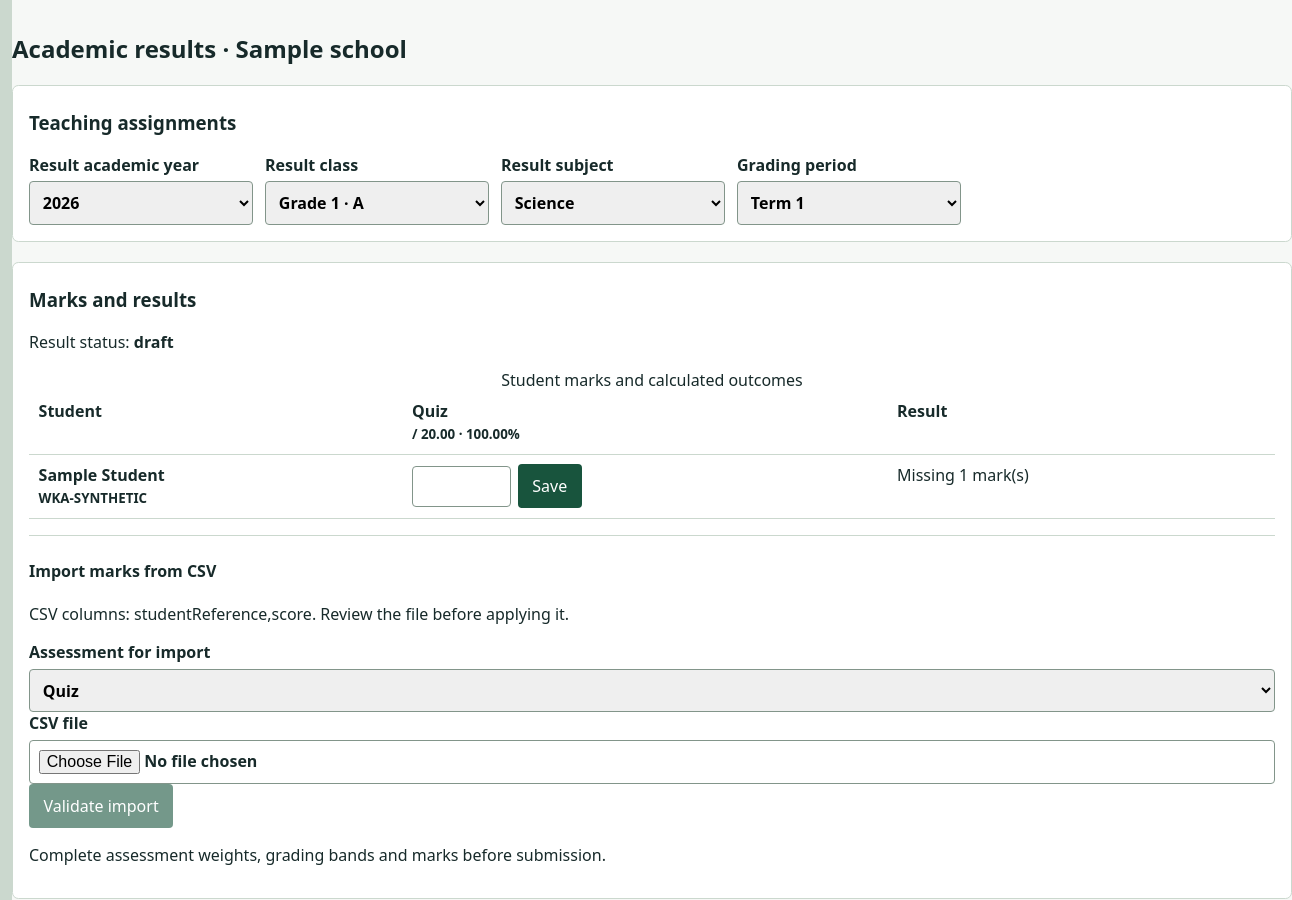
it: academic workspace › validates draft scores and saves through the real academic endpoint client
Type "21" into the field named "Quiz score for WKA-SYNTHETIC".
click(462, 486); type("21")  # box [412,466,512,507]
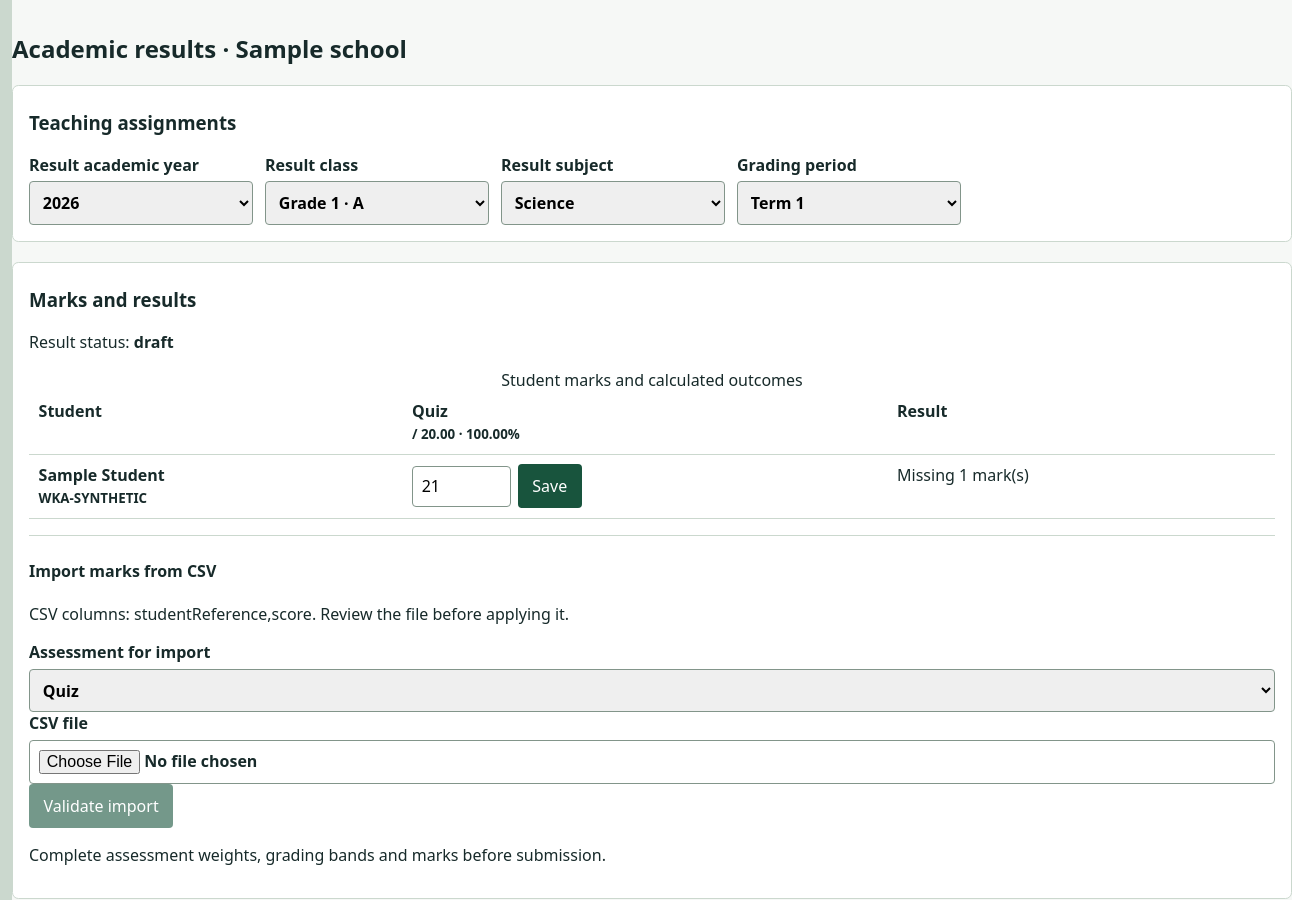
Click the button "Save".
click(550, 486)  # box [518,464,582,508]
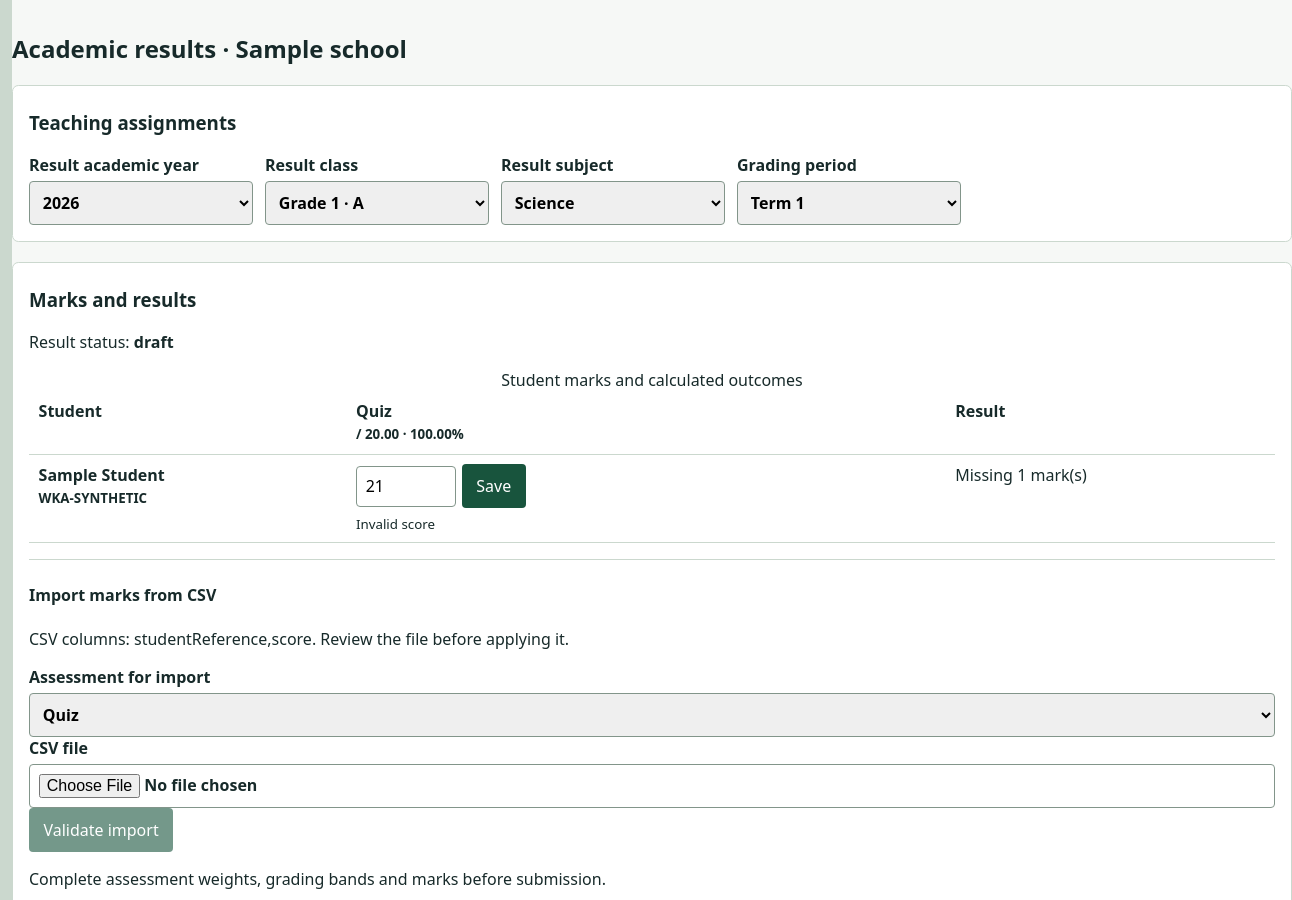
Expected: the text "Invalid score" is shown, [356,515,435,533]
Replace the text in the field named "Quiz score for WKA-SYNTHETIC" with "12" at (406,486), box [356,466,456,507]
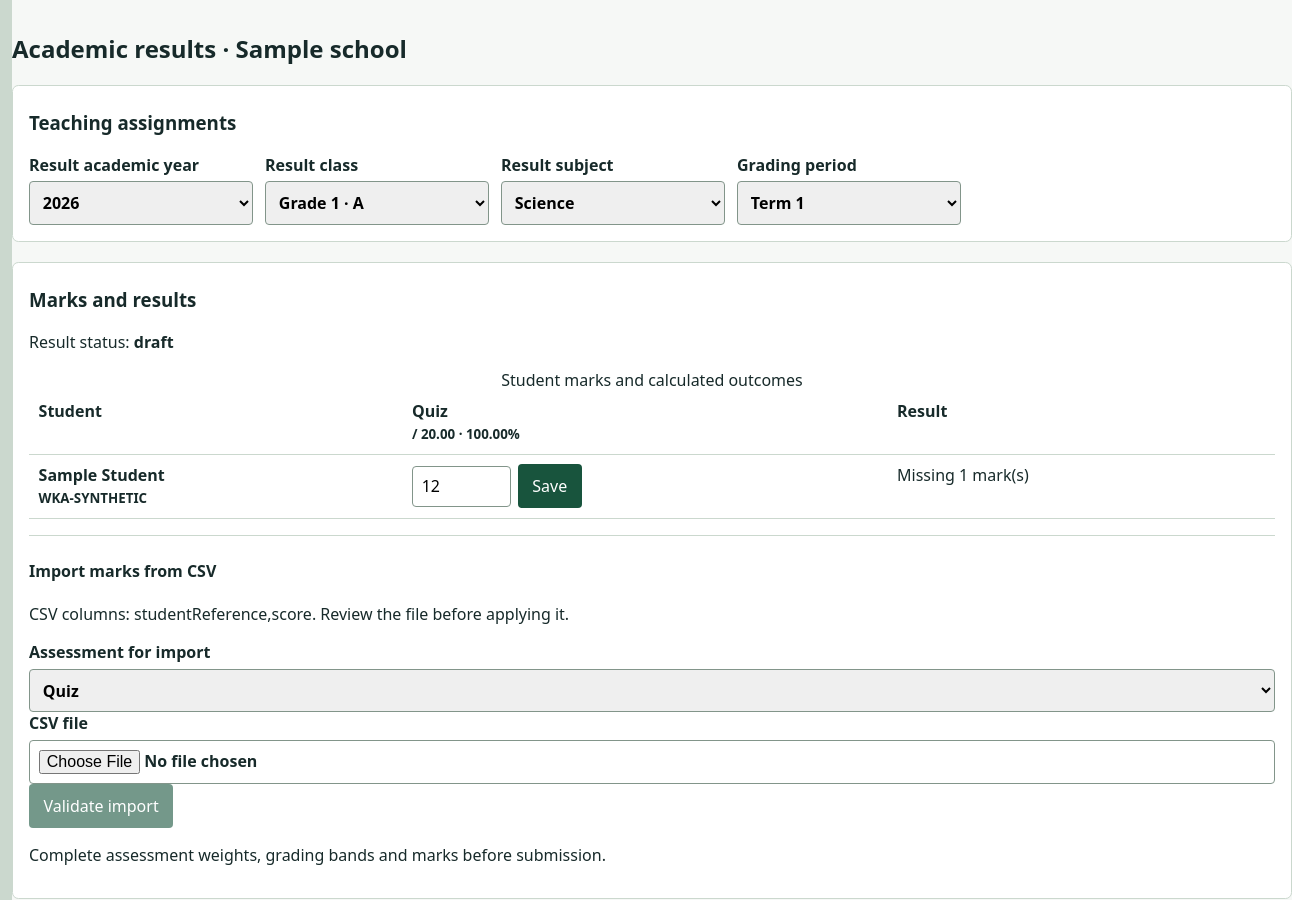
Click the button "Save".
click(550, 486)  # box [518,464,582,508]
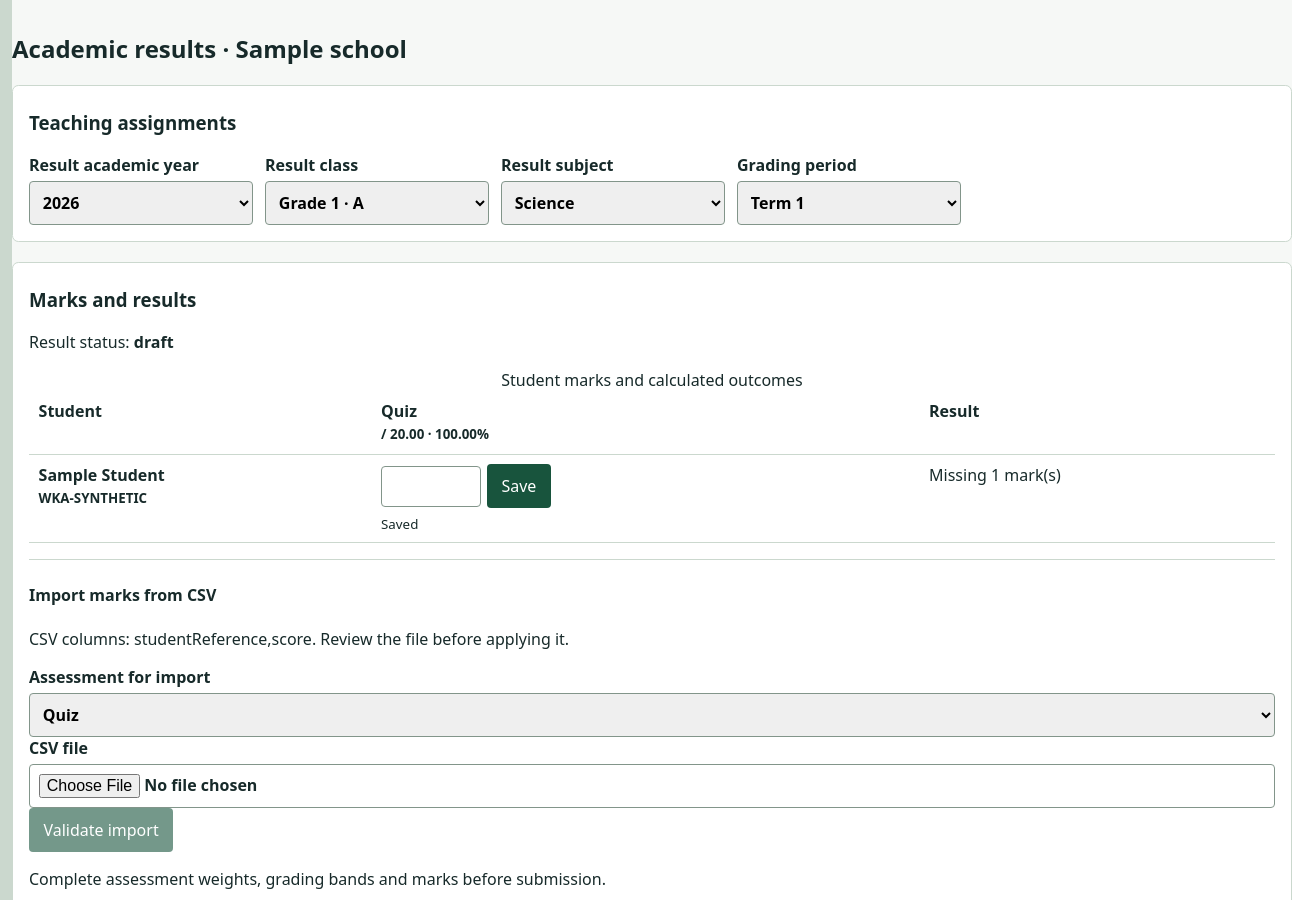
Expected: the text "Saved" is shown, [381,515,418,533]
